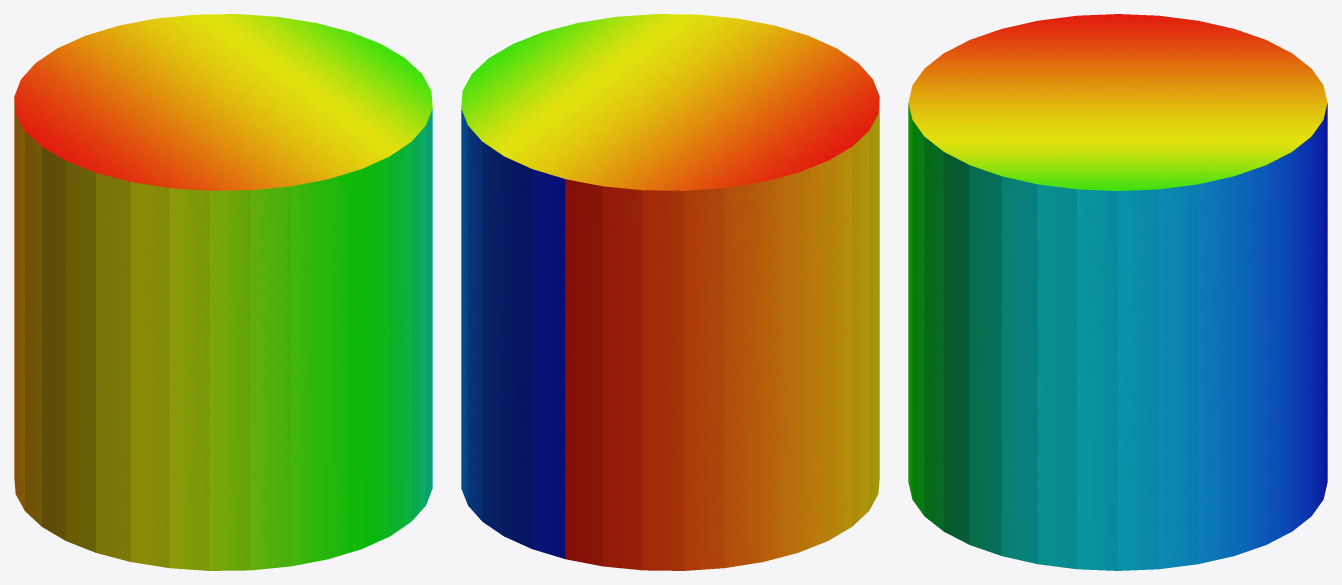
File: rainbow_cylinder.glb
3 renders of one model, left to right at view 1: azimuth 30°, elevation 25°; view 2: azimuth 150°, elevation 25°; view 3: azimuth 270°, elevation 25°, orthographic.
Parts seen in each view (by area): view 1: Cylinder; view 2: Cylinder; view 3: Cylinder.
Boxes of the visible parts, <box> form: Cylinder: <box>14,14,432,570</box>; Cylinder: <box>461,14,879,570</box>; Cylinder: <box>908,14,1327,570</box>.
Size of the model in its own units: 2 by 2 by 2.
Materials: 1 (1 with a texture image).
